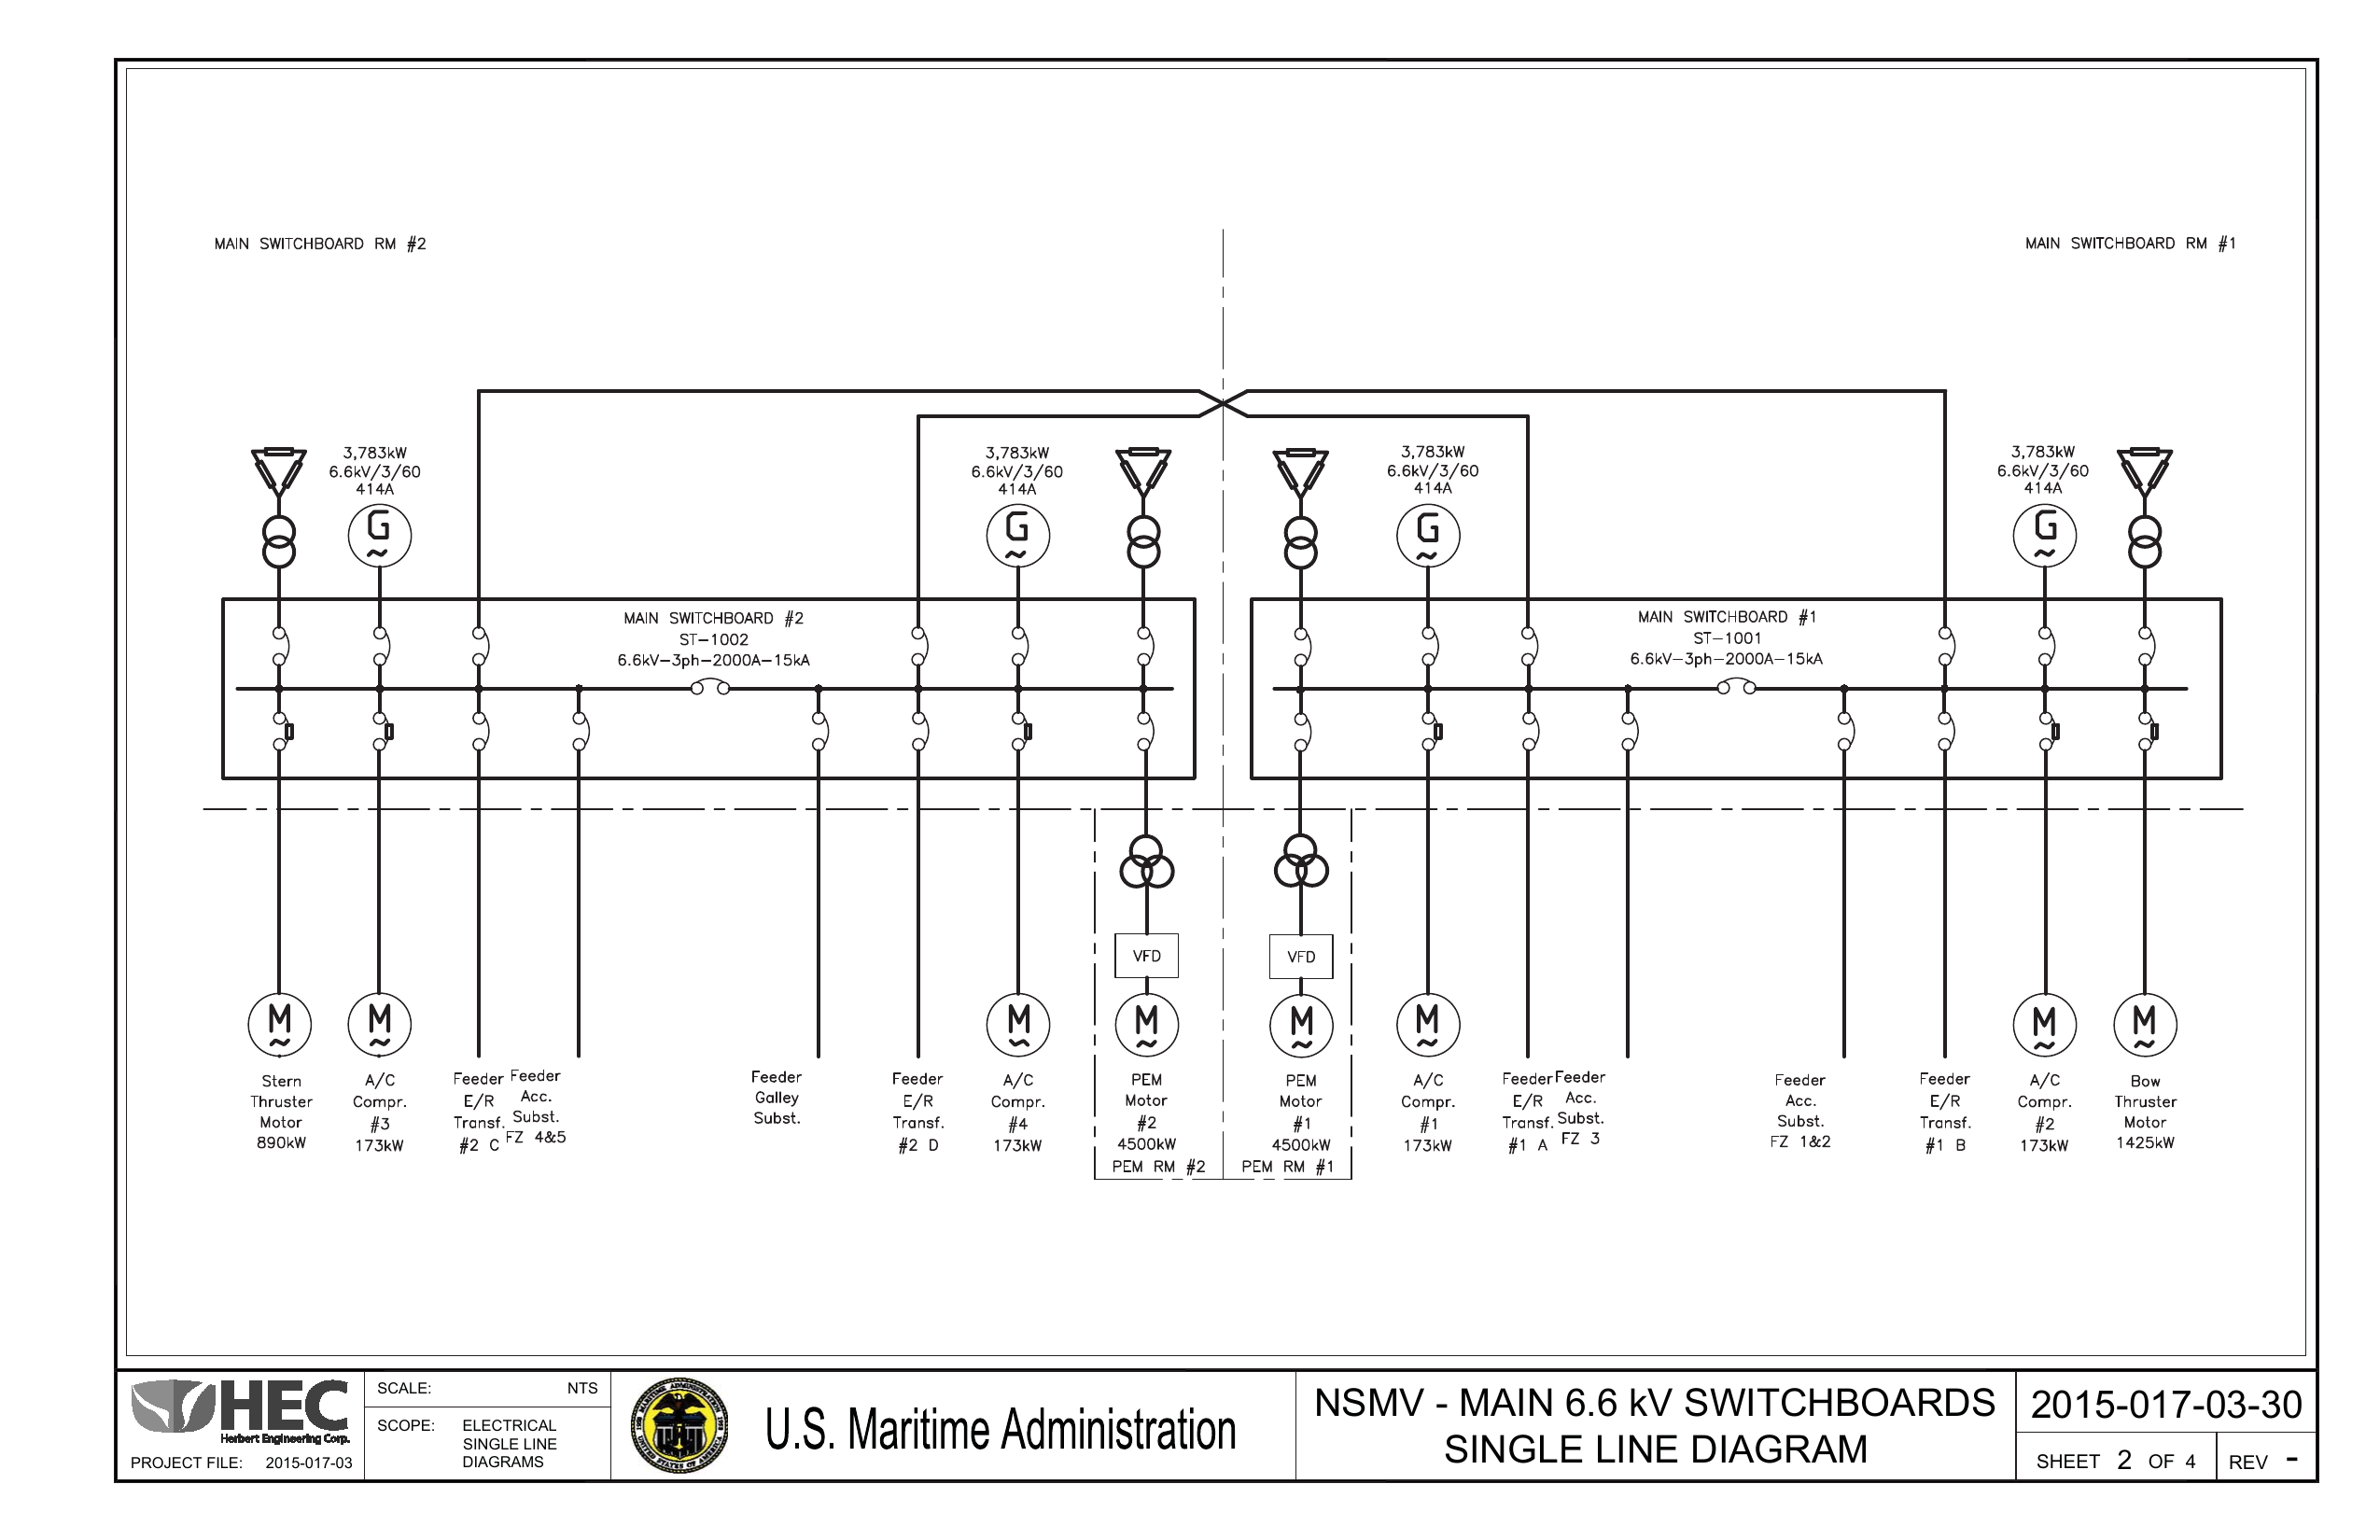circuit_breaker: (345, 694, 411, 767), (1399, 694, 1466, 764), (2120, 601, 2179, 679), (255, 597, 311, 677), (2118, 699, 2182, 765), (553, 693, 611, 765), (457, 604, 516, 674), (451, 697, 510, 764), (1277, 612, 1335, 679), (1605, 699, 1664, 764), (1502, 609, 1559, 676), (897, 606, 955, 670), (355, 609, 411, 676), (251, 696, 311, 758), (993, 607, 1045, 677), (797, 703, 848, 767), (2024, 699, 2074, 762), (1925, 604, 1968, 671), (1119, 697, 1169, 753), (1125, 606, 1163, 677), (1508, 696, 1556, 753), (2024, 604, 2065, 671), (1921, 693, 1962, 759), (1825, 693, 1865, 758), (998, 696, 1043, 753), (670, 671, 747, 704), (1404, 609, 1448, 665), (903, 694, 940, 759), (1283, 696, 1323, 752), (1705, 671, 1781, 699)
